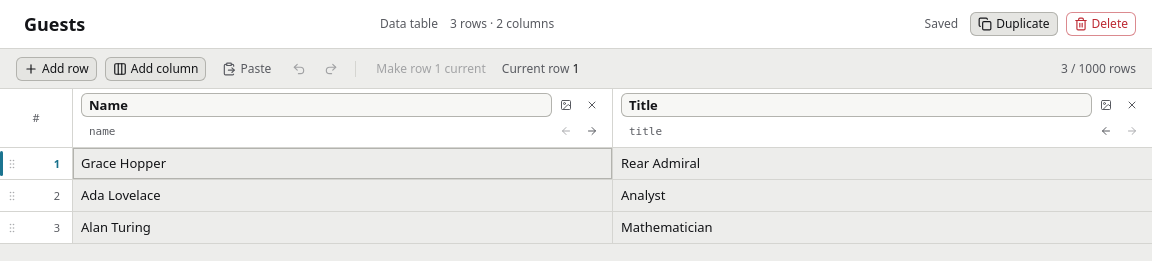
Test: source editor › Make current steps the source to the active row
Press the mouse on the cell "Alan Turing" at (342, 228), box [72,212,612,243]
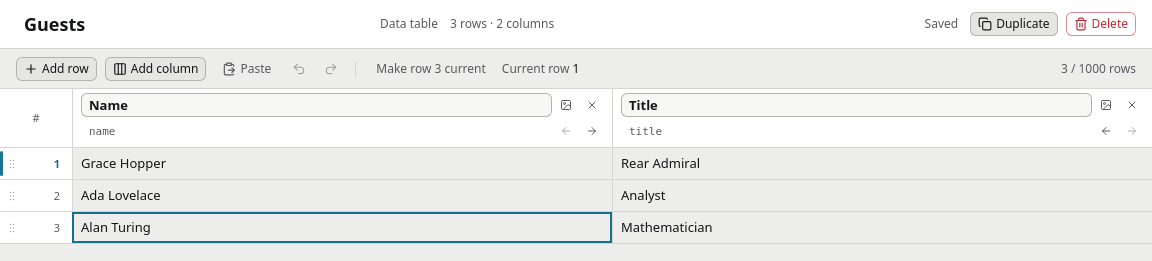
Click the button "Make row 3 current".
click(431, 68)  # box [368,56,494,80]
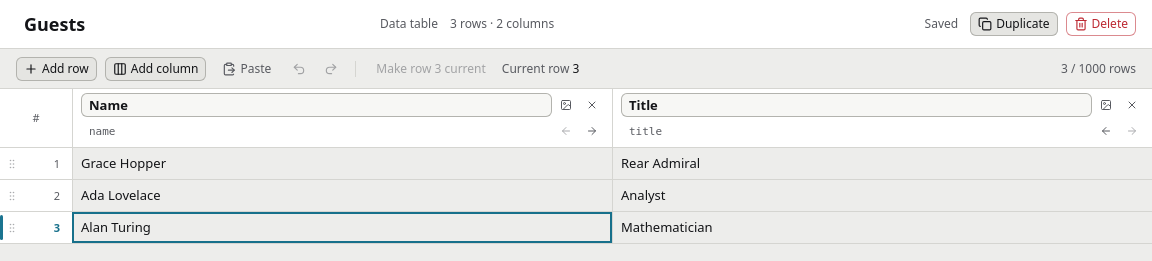
Check: the button "Make row 3 current" is disabled, box [368,56,494,80]
